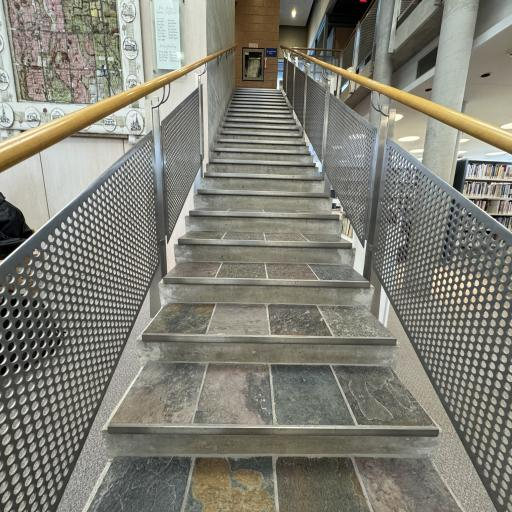Stairs: (88, 88, 459, 512), (88, 456, 461, 512)
